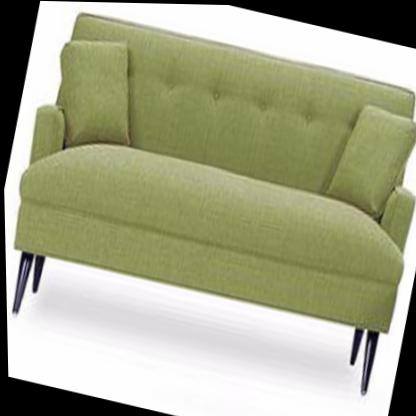Sofa: (0, 3, 416, 395)
